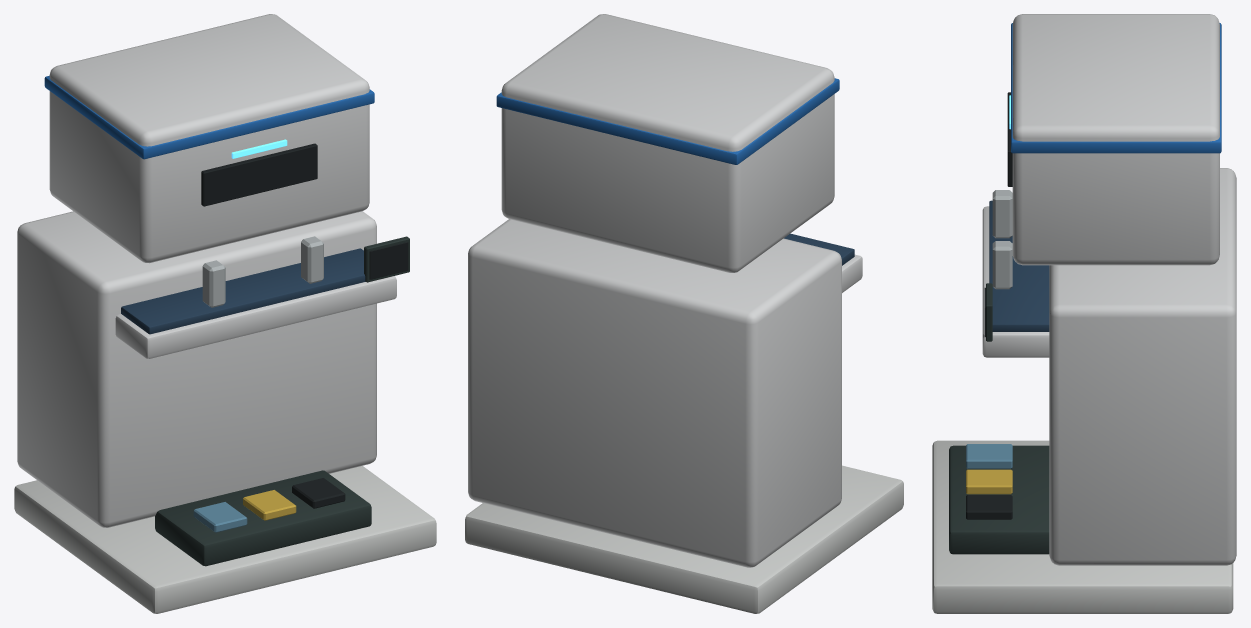
The model's file is sc-robotic-console.glb.
3 views of the same model, side by side, from view 1: azimuth 30°, elevation 25°; view 2: azimuth 150°, elevation 25°; view 3: azimuth 270°, elevation 25° (orthographic). The views are drawn at different scales.
Visible parts, largest first — view 1: sc-robotic-console; view 2: sc-robotic-console; view 3: sc-robotic-console.
Boxes of the visible parts, x1,y1,x2,y2 form: sc-robotic-console: [14, 14, 436, 613]; sc-robotic-console: [465, 14, 903, 613]; sc-robotic-console: [932, 14, 1236, 613].
Size of the model in its own units: 1.04 by 1.56 by 0.91.
